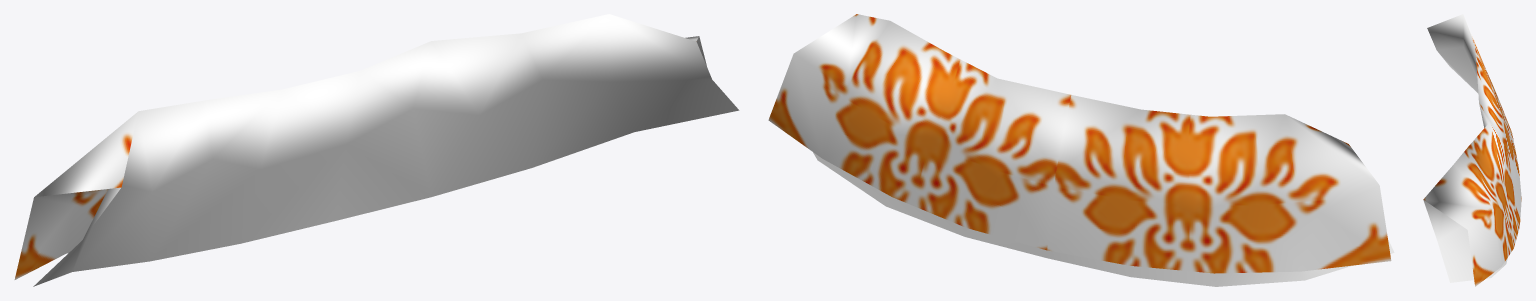
The model's file is Kerah.fbx.
The picture shows the model from 3 angles, left to right: view 1: azimuth 30°, elevation 25°; view 2: azimuth 150°, elevation 25°; view 3: azimuth 270°, elevation 25°; orthographic projection. The views are drawn at different scales.
Parts seen in each view (by area): view 1: Kerah.003; view 2: Kerah.003; view 3: Kerah.003.
Boxes of the visible parts, x1,y1,x2,y2 form: Kerah.003: (14,14,739,286); Kerah.003: (768,14,1394,286); Kerah.003: (1423,14,1521,286).
Size of the model in its own units: 145 by 37.89 by 27.24.
Materials: 2 (1 with a texture image).
